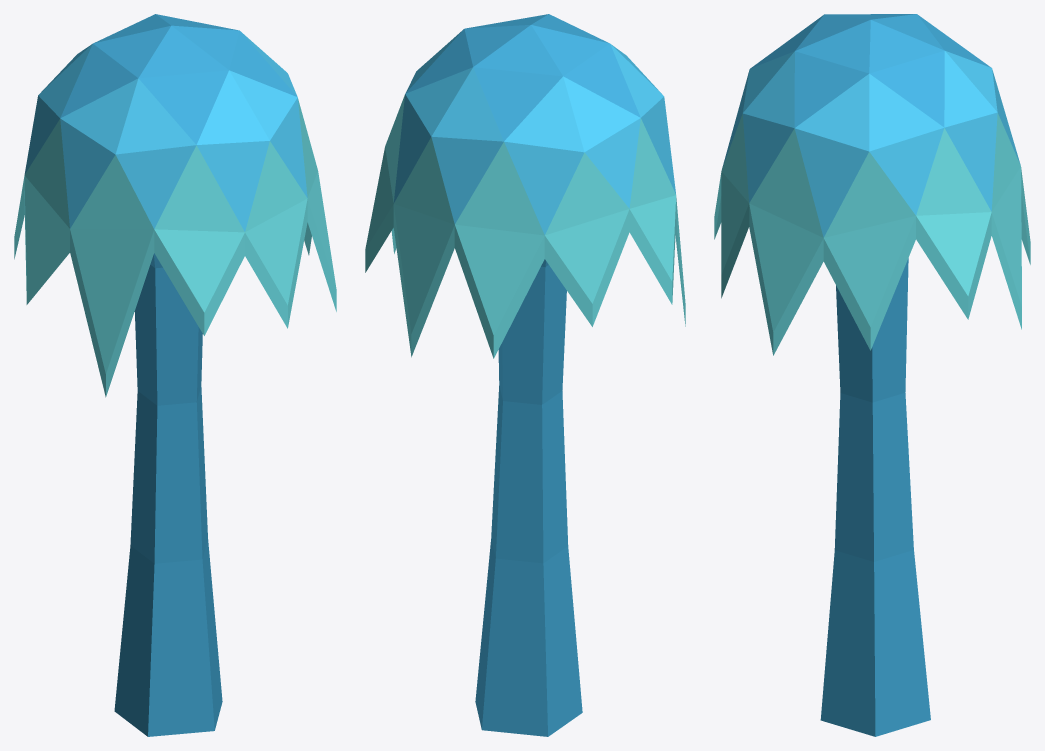
Rendered from Fountain.fbx.
3 renders of one model, left to right at view 1: azimuth 30°, elevation 25°; view 2: azimuth 150°, elevation 25°; view 3: azimuth 270°, elevation 25°, orthographic.
Parts seen in each view (by area): view 1: Fountain; view 2: Fountain; view 3: Fountain.
Boxes of the visible parts, x1=… form: Fountain: x1=14, y1=14, x2=336, y2=736; Fountain: x1=365, y1=14, x2=685, y2=736; Fountain: x1=714, y1=14, x2=1030, y2=736.
Bounding box in the file's own units: 103 × 242 × 100.
